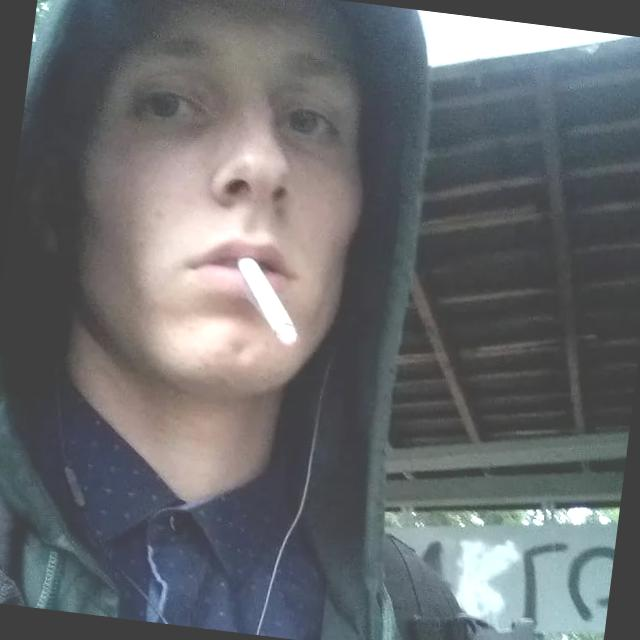cigarette: (225, 250, 312, 351)
